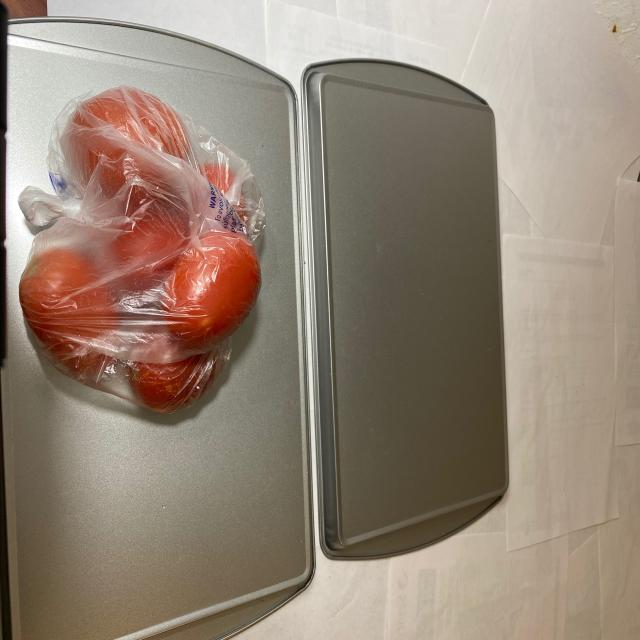tomato: (27, 91, 270, 413)
